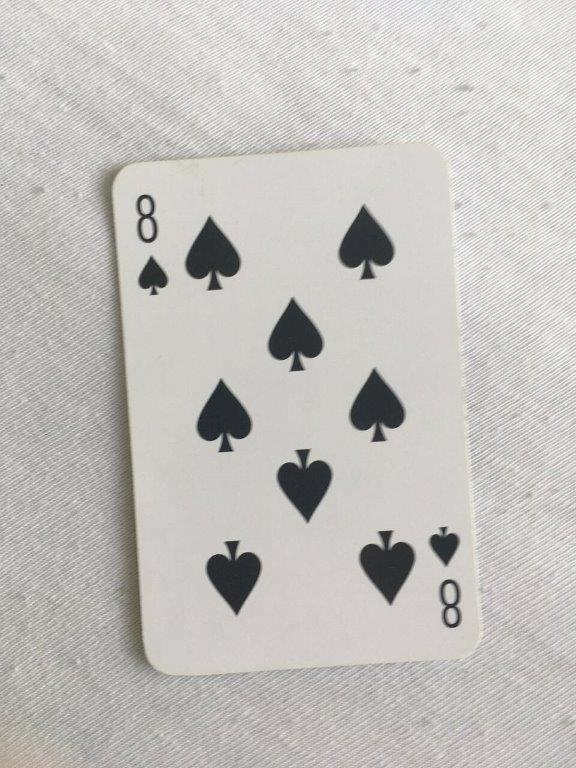8S: (108, 139, 487, 679)
